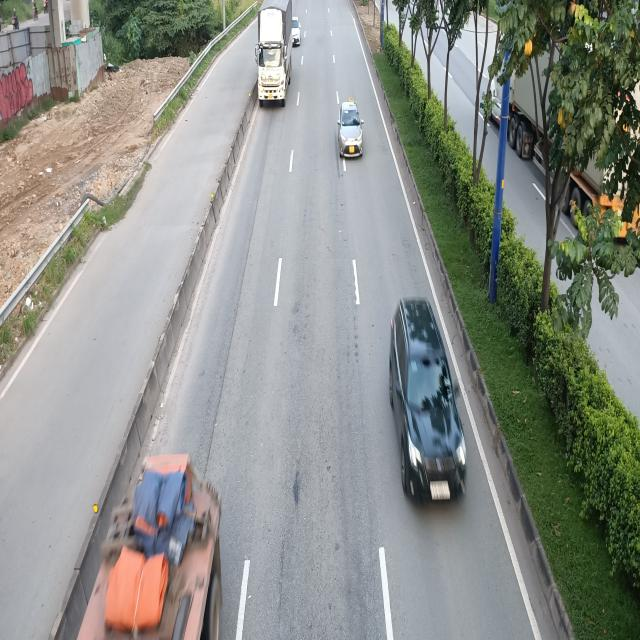car: (389, 296, 468, 506), (338, 99, 364, 158), (292, 17, 302, 47)
truck: (255, 0, 292, 104)
